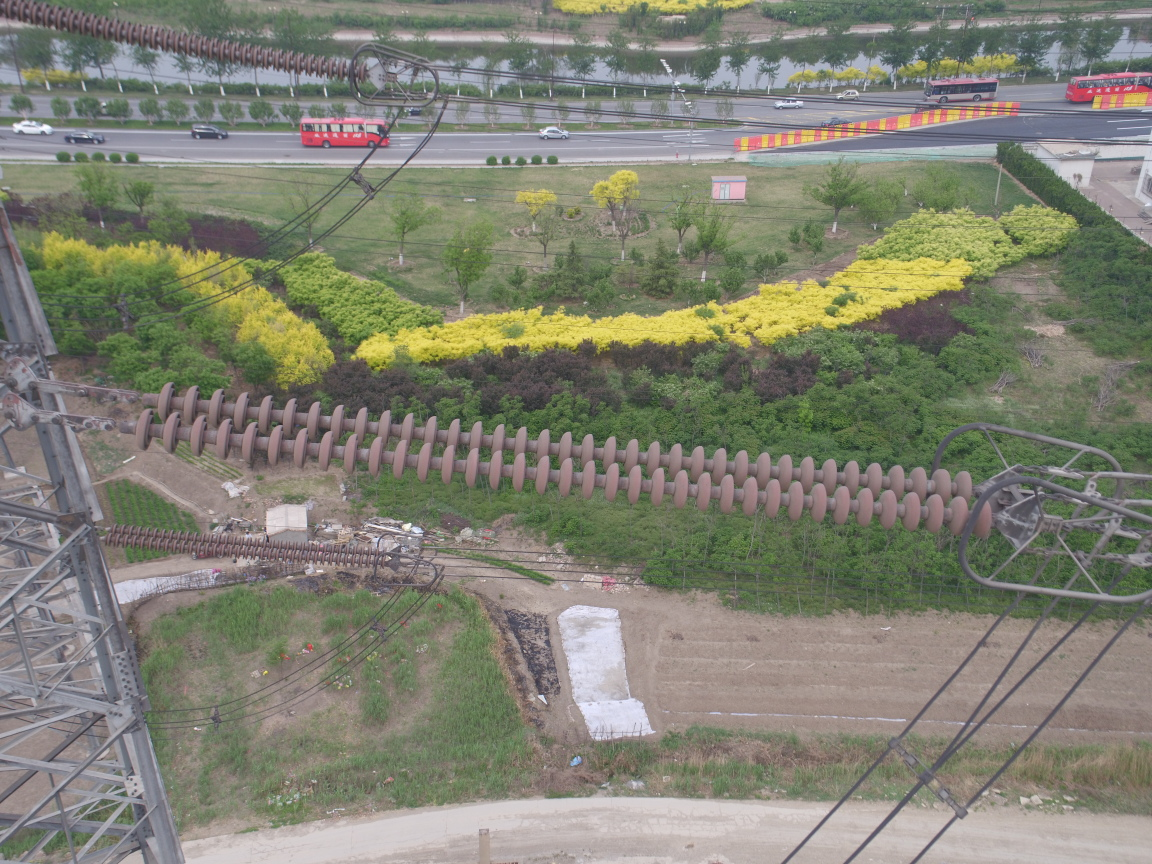insulator: (79, 374, 1009, 541)
